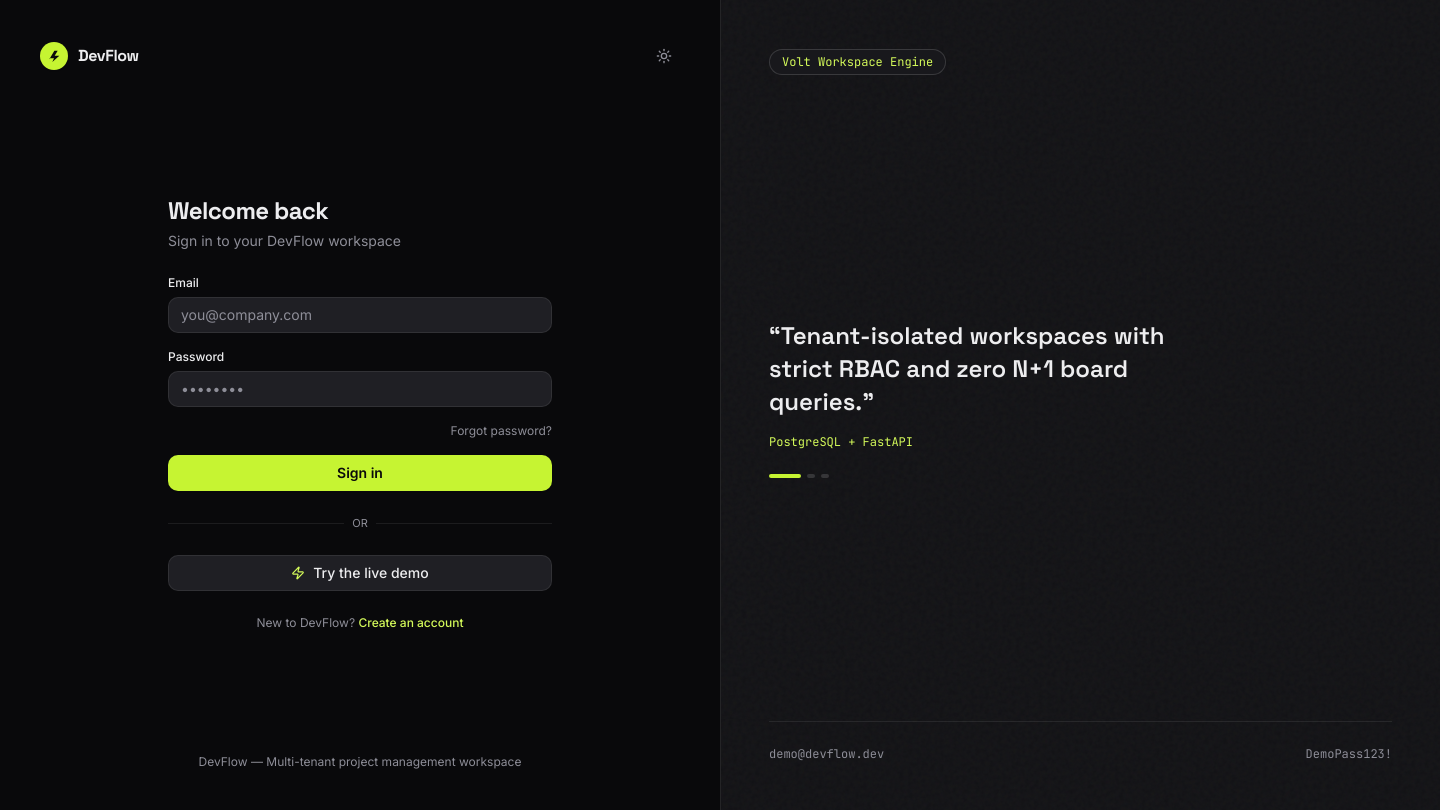
Test: LoginPage › shows inline validation errors on blank submit
Click the button "Sign in". click: (360, 473)
box: [168,455,552,491]
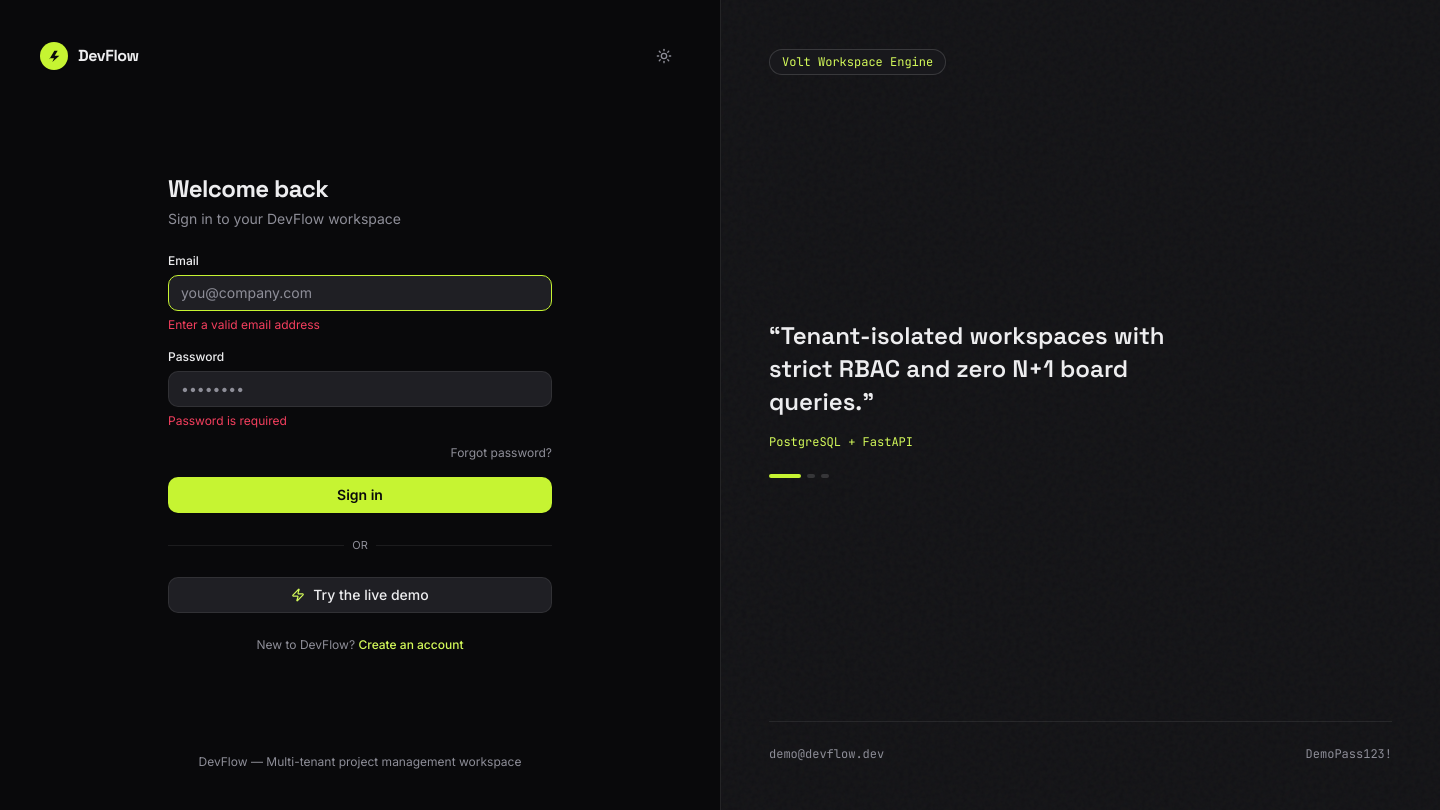
Expected: the text "Enter a valid email address" is shown, [168,317,320,332]
Expected: the text "Password is required" is shown, [168,413,287,428]
